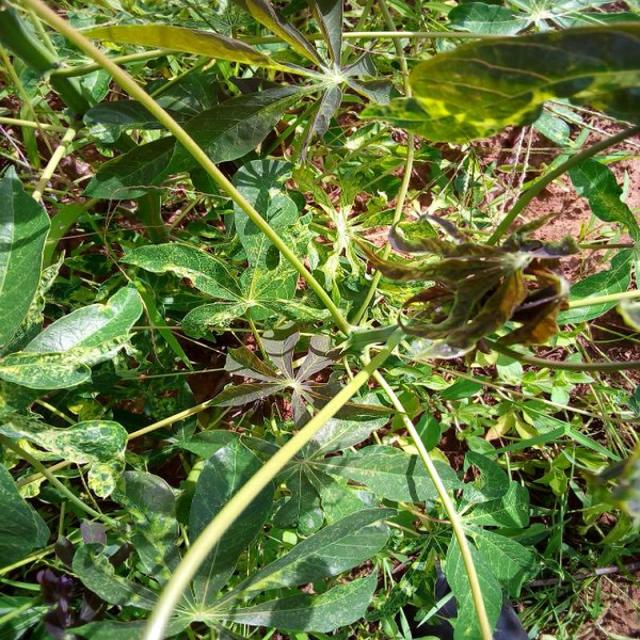cassava leaf: (2, 1, 640, 638), (362, 19, 640, 144)
